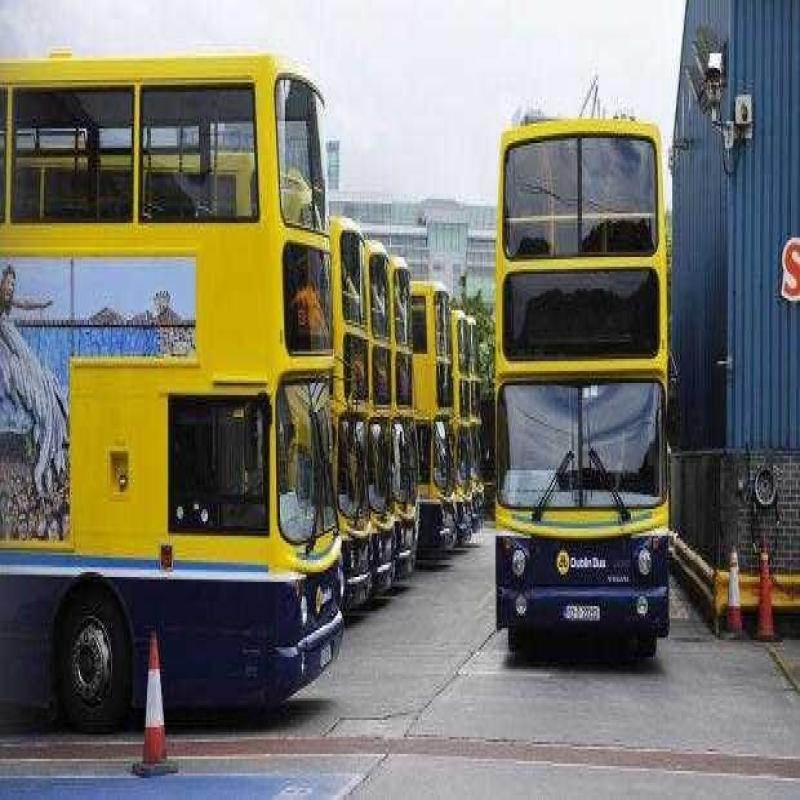bus: (1, 46, 340, 754), (486, 92, 686, 701)
